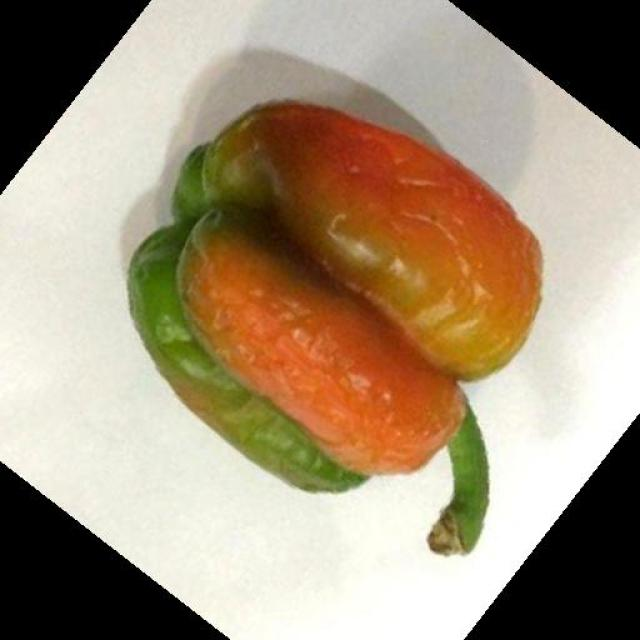Stale_Capsicum: (128, 89, 497, 482)
